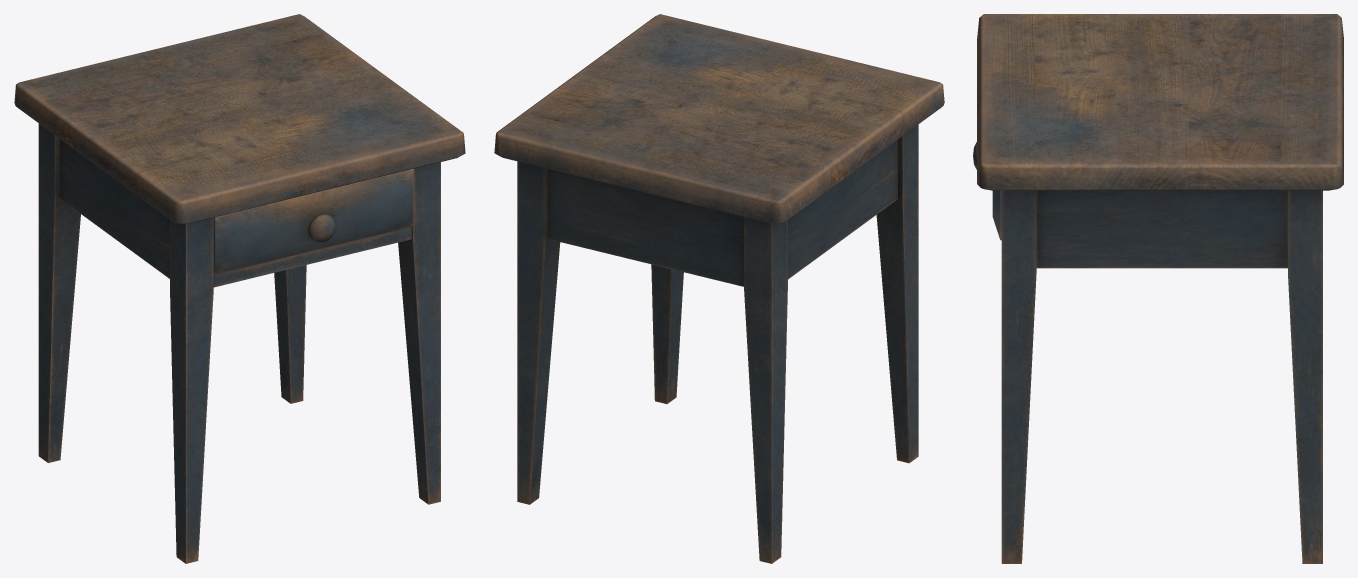
The model's file is nightstand.glb.
The picture shows the model from 3 angles, left to right: view 1: azimuth 30°, elevation 25°; view 2: azimuth 150°, elevation 25°; view 3: azimuth 270°, elevation 25°; orthographic projection. The views are drawn at different scales.
Visible parts, largest first — view 1: painted_wooden_nightstand; view 2: painted_wooden_nightstand; view 3: painted_wooden_nightstand.
Boxes of the visible parts, bbox=[...] form: painted_wooden_nightstand: bbox=[14, 14, 465, 563]; painted_wooden_nightstand: bbox=[494, 14, 944, 563]; painted_wooden_nightstand: bbox=[973, 14, 1343, 563].
Size of the model in its own units: 0.5045 by 0.6155 by 0.5087.
1 material, 1 textured.
